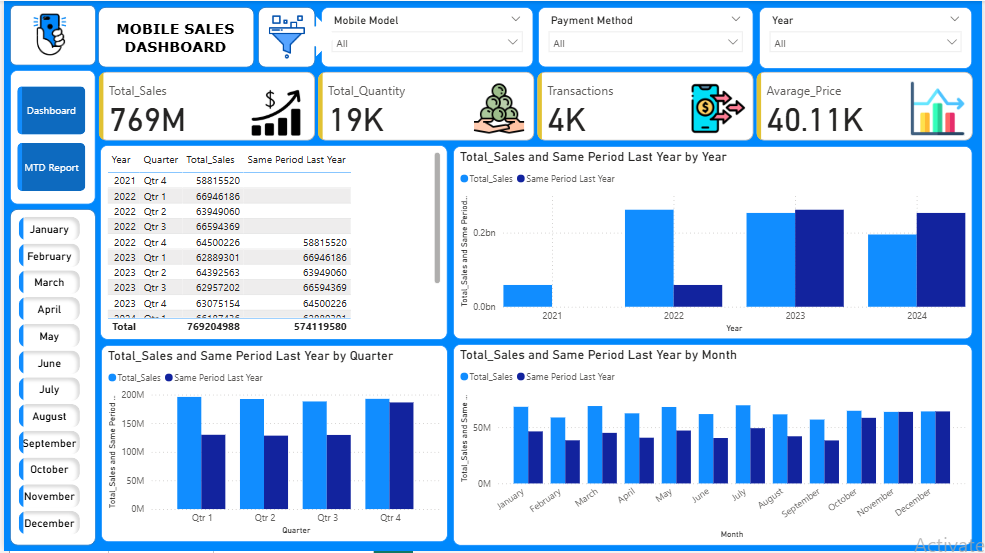

The page's visual inventory and layout, read from the dashboard file:
{"tool":"powerbi","page":{"name":"Dashboard","canvas":[1280,720],"ordinal":0},"visuals":[{"type":"shape","box":[7.2,270.7,112.3,440.6],"z":0},{"type":"shape","box":[7.2,5.8,112.3,79.2],"z":1000},{"type":"image","box":[0,2.9,119.5,82.1],"z":2000},{"type":"advancedSlicerVisual","fields":{"Values":["Custom_Calendar.Date.Variation.Date Hierarchy.Month"]},"box":[14.4,275,90.7,432],"z":3000},{"type":"shape","box":[7.2,90.7,112.3,175.7],"z":4000},{"type":"cardVisual","fields":{"Data":["Sales_data.Total_Sales","Sales_data.Total_Quantity","Sales_data.Transactions","Sales_data.Avarage_Price"]},"box":[119.5,87.8,1157.8,100.8],"z":5000},{"type":"slicer","fields":{"Values":["Sales_data.Mobile Model"]},"box":[414.7,7.2,277.9,79.2],"z":6000},{"type":"slicer","fields":{"Values":["Sales_data.Payment Method"]},"box":[698.4,7.2,282.2,79.2],"z":7000},{"type":"slicer","fields":{"Values":["Sales_data.Brand"]},"box":[987.8,7.2,279.4,80.6],"z":8000},{"type":"shape","box":[332.6,7.2,74.9,79.2],"z":9000},{"type":"shape","box":[371.5,20.2,63.4,53.3],"z":10000},{"type":"image","box":[326.9,13,86.4,67.7],"z":11000},{"type":"shape","box":[122.4,7.2,204.5,79.2],"z":12000},{"type":"textbox","box":[132.5,20.2,184.3,60.5],"z":13000},{"type":"map","fields":{"Category":["Sales_data.City"]},"box":[126.7,188.6,280.8,354.2],"z":14000},{"type":"lineChart","fields":{"Category":["Custom_Calendar.Date.Variation.Date Hierarchy.Month"],"Y":["Sales_data.Total_Quantity"]},"box":[413.3,191.5,853.9,167],"z":15000},{"type":"funnel","title":"Rating by Rating Status","fields":{"Category":["Sales_data.Rating Status"],"Y":["CountNonNull(Sales_data.Rating Status)"]},"box":[411.8,365.8,381.6,177.1],"z":16000},{"type":"pieChart","fields":{"Category":["Sales_data.Payment Method"],"Y":["Sales_data.Transactions"]},"box":[799.2,367.2,468,175.7],"z":17000},{"type":"clusteredBarChart","fields":{"Y":["Sales_data.Total_Sales"],"Category":["Sales_data.Mobile Model"]},"box":[410.4,550.1,383,161.3],"z":18000},{"type":"areaChart","fields":{"Category":["Custom_Calendar.Day Name"],"Y":["Sales_data.Total_Sales"]},"box":[799.2,550.1,468,161.3],"z":19000},{"type":"tableEx","fields":{"Values":["Sales_data.Brand","Sales_data.Total_Sales","Sales_data.Transactions"]},"box":[126.7,550.1,280.8,161.3],"z":20000},{"type":"pageNavigator","box":[17.3,110.9,90.7,138.2],"z":20001}]}

Visuals, with their boxes in screenshot pixels (x1, y1, x2, y2), scaled from the page's 1280x720 canvas onto the 985x553 screenshot:
shape: 6 208 92 546
shape: 6 4 92 65
image: 0 2 92 65
advancedSlicerVisual - Custom_Calendar.Date.Variation.Date Hierarchy.Month: 11 211 81 543
shape: 6 70 92 205
cardVisual - Sales_data.Total_Sales x Sales_data.Total_Quantity: 92 67 983 145
slicer - Sales_data.Mobile Model: 319 6 533 66
slicer - Sales_data.Payment Method: 537 6 755 66
slicer - Sales_data.Brand: 760 6 975 67
shape: 256 6 314 66
shape: 286 16 335 56
image: 252 10 318 62
shape: 94 6 252 66
textbox: 102 16 244 62
map - Sales_data.City: 97 145 314 417
lineChart - Custom_Calendar.Date.Variation.Date Hierarchy.Month x Sales_data.Total_Quantity: 318 147 975 275
"Rating by Rating Status" funnel: 317 281 611 417
pieChart - Sales_data.Payment Method x Sales_data.Transactions: 615 282 975 417
clusteredBarChart - Sales_data.Total_Sales x Sales_data.Mobile Model: 316 423 611 546
areaChart - Custom_Calendar.Day Name x Sales_data.Total_Sales: 615 423 975 546
tableEx - Sales_data.Brand x Sales_data.Total_Sales: 97 423 314 546
pageNavigator: 13 85 83 191
